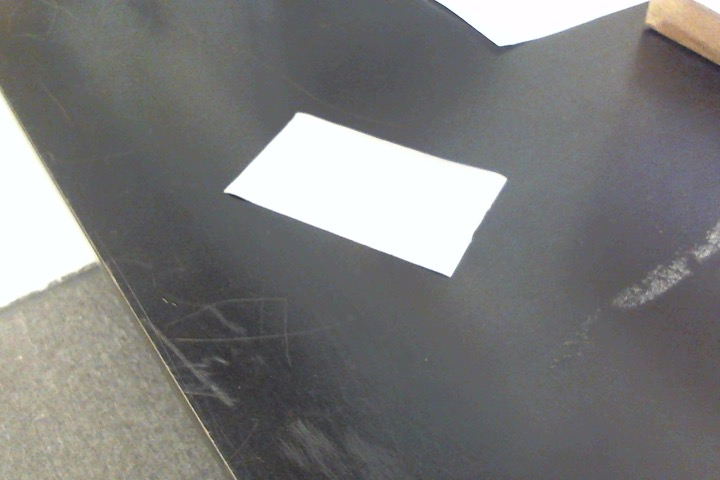Tape: (222, 112, 509, 279)
